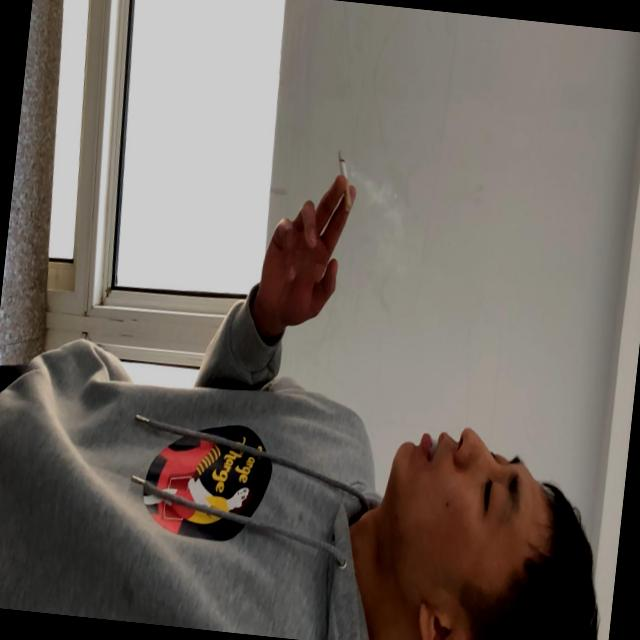cigarette: (335, 137, 353, 198)
